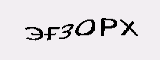Д: (37, 19, 57, 43)
И: (101, 16, 122, 38)
Л: (56, 22, 74, 43)
Т: (89, 19, 105, 39)
Э: (76, 20, 91, 41)
